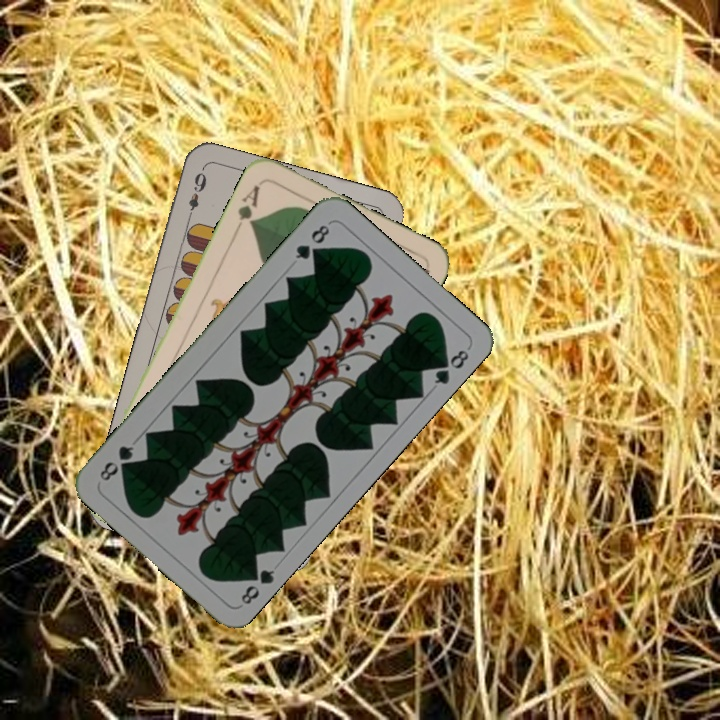E9: (183, 166, 209, 224)
G8: (236, 562, 278, 607), (291, 219, 333, 263)
GA: (231, 181, 262, 235)
